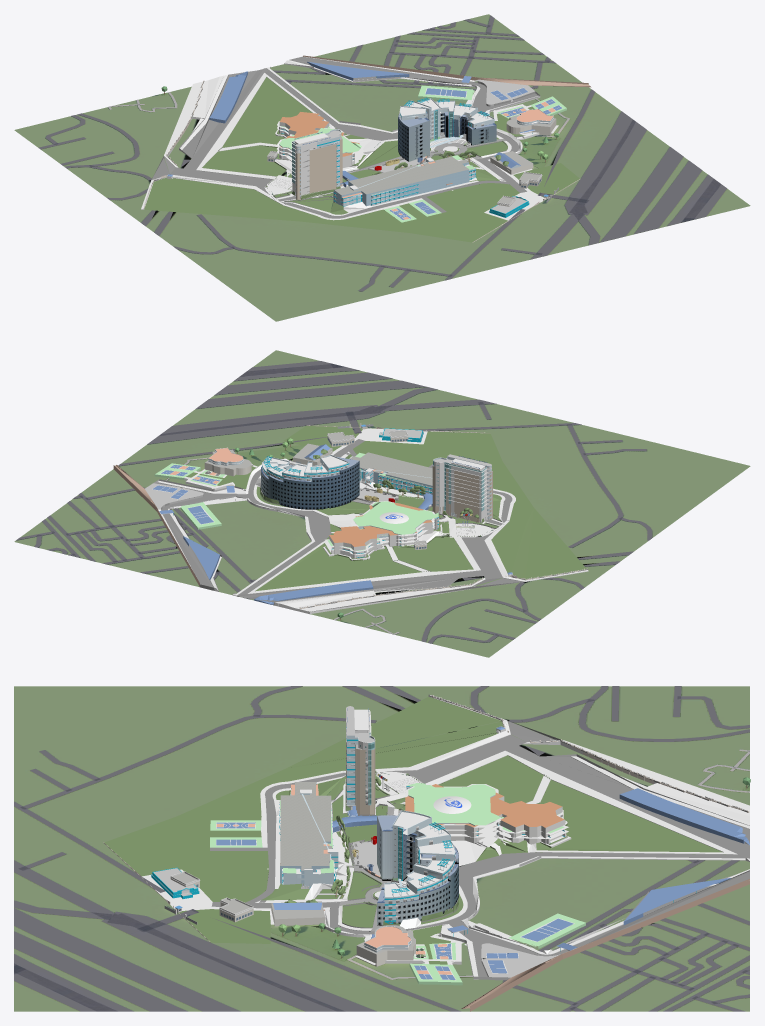
The model's file is uit_campus_thu.glb.
3 views of the same model, one above another, from view 1: azimuth 30°, elevation 25°; view 2: azimuth 150°, elevation 25°; view 3: azimuth 270°, elevation 25° (orthographic). The views are drawn at different scales.
Visible parts, largest first — view 1: GND_Base, GND_myuit, PATH_Road, BLD_C, BLD_B, GND_vach, VIS_B, BLD_E, VIS_E, PROP_myuit, BLD_A, VIS_A (+4 smaller); view 2: GND_Base, GND_myuit, PATH_Road, BLD_B, GND_vach, VIS_A, VIS_E, BLD_E, BLD_A, BLD_C, VIS_B, PROP_myuit (+6 smaller); view 3: GND_Base, GND_myuit, PATH_Road, GND_vach, VIS_B, VIS_A, BLD_C, BLD_B, BLD_A, PROP_myuit, VIS_E, GND_Green (+9 smaller).
Boxes of the visible parts, left/top/right/bottom form: GND_Base: left=14, top=14, right=750, bottom=321; GND_myuit: left=141, top=56, right=580, bottom=242; PATH_Road: left=39, top=15, right=726, bottom=291; BLD_C: left=334, top=156, right=469, bottom=206; BLD_B: left=398, top=111, right=496, bottom=161; GND_vach: left=141, top=56, right=576, bottom=242; VIS_B: left=399, top=97, right=494, bottom=143; BLD_E: left=296, top=137, right=342, bottom=200; VIS_E: left=291, top=129, right=343, bottom=198; PROP_myuit: left=144, top=55, right=591, bottom=207; BLD_A: left=279, top=112, right=359, bottom=167; VIS_A: left=276, top=115, right=365, bottom=166; GND_Base: left=14, top=350, right=750, bottom=657; GND_myuit: left=145, top=425, right=588, bottom=611; PATH_Road: left=16, top=361, right=652, bottom=643; BLD_B: left=261, top=457, right=359, bottom=509; GND_vach: left=114, top=425, right=588, bottom=614; VIS_A: left=325, top=501, right=435, bottom=559; VIS_E: left=431, top=454, right=491, bottom=523; BLD_E: left=432, top=465, right=492, bottom=522; BLD_A: left=329, top=503, right=432, bottom=554; BLD_C: left=350, top=452, right=432, bottom=494; VIS_B: left=261, top=455, right=349, bottom=480; PROP_myuit: left=113, top=427, right=586, bottom=608; GND_Base: left=14, top=686, right=749, bottom=1011; GND_myuit: left=103, top=694, right=749, bottom=982; PATH_Road: left=14, top=686, right=749, bottom=1011; GND_vach: left=104, top=697, right=749, bottom=1011; VIS_B: left=384, top=810, right=455, bottom=923; VIS_A: left=399, top=784, right=568, bottom=845; BLD_C: left=280, top=782, right=331, bottom=883; BLD_B: left=377, top=815, right=458, bottom=925; BLD_A: left=405, top=784, right=564, bottom=844; PROP_myuit: left=169, top=695, right=749, bottom=1011; VIS_E: left=345, top=706, right=375, bottom=815; GND_Green: left=270, top=784, right=749, bottom=961.
Size of the model in its own units: 450 by 51.38 by 431.
Materials: 46 (8 with a texture image).
